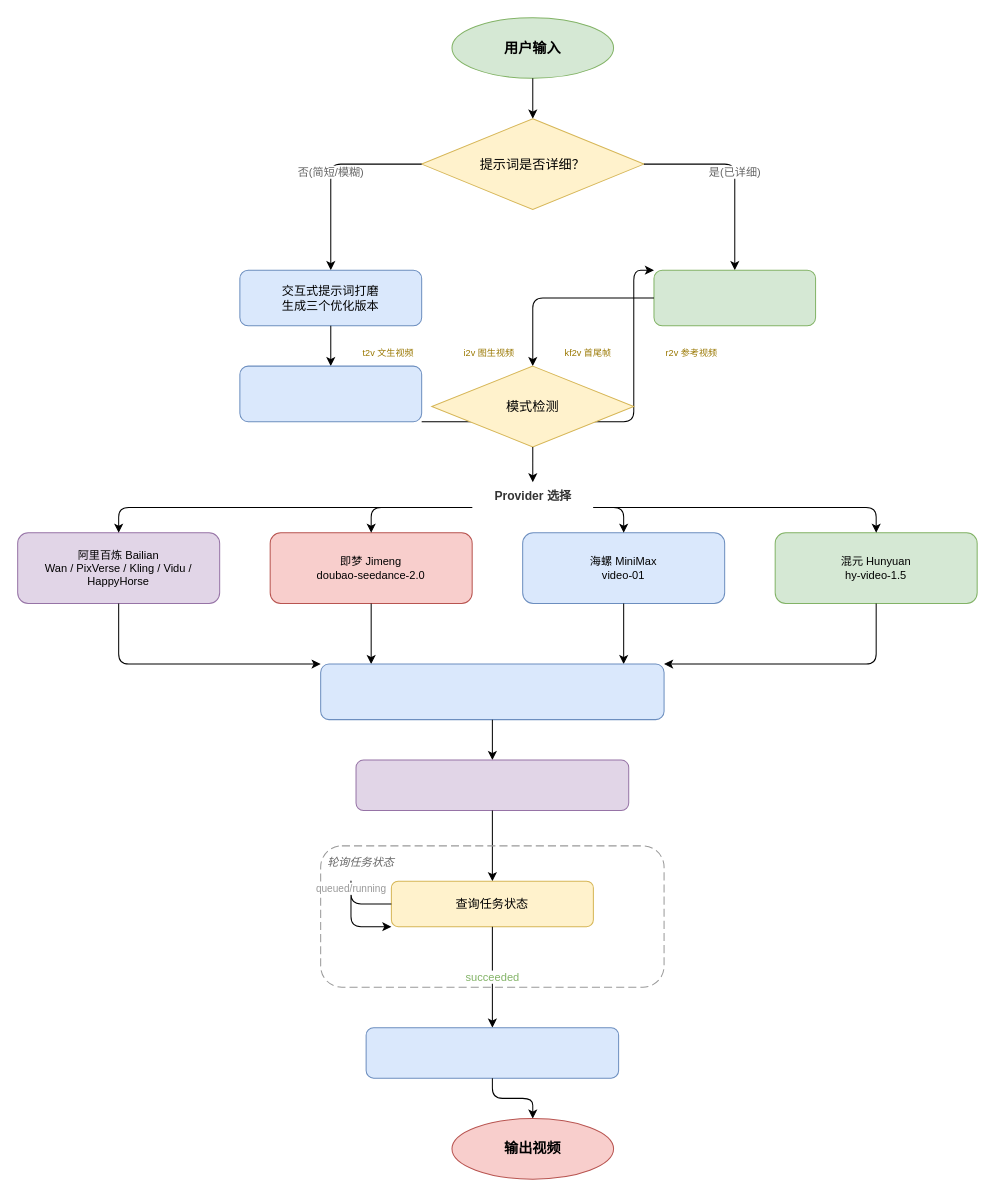
The diagram is 995 pixels wide and 1197 high, and some of its shapes have lost their labels. Each missing label, with the centre of its shape:
"API 异步提交任务" belongs at point (492, 785).
"下载 MP4 视频文件" belongs at point (492, 1052).
"参数配置 duration / resolution / ratio / audio / camera" belongs at point (492, 691).
"提示词确认" belongs at point (734, 297).
"用户选择/反馈/迭代" belongs at point (330, 393).
